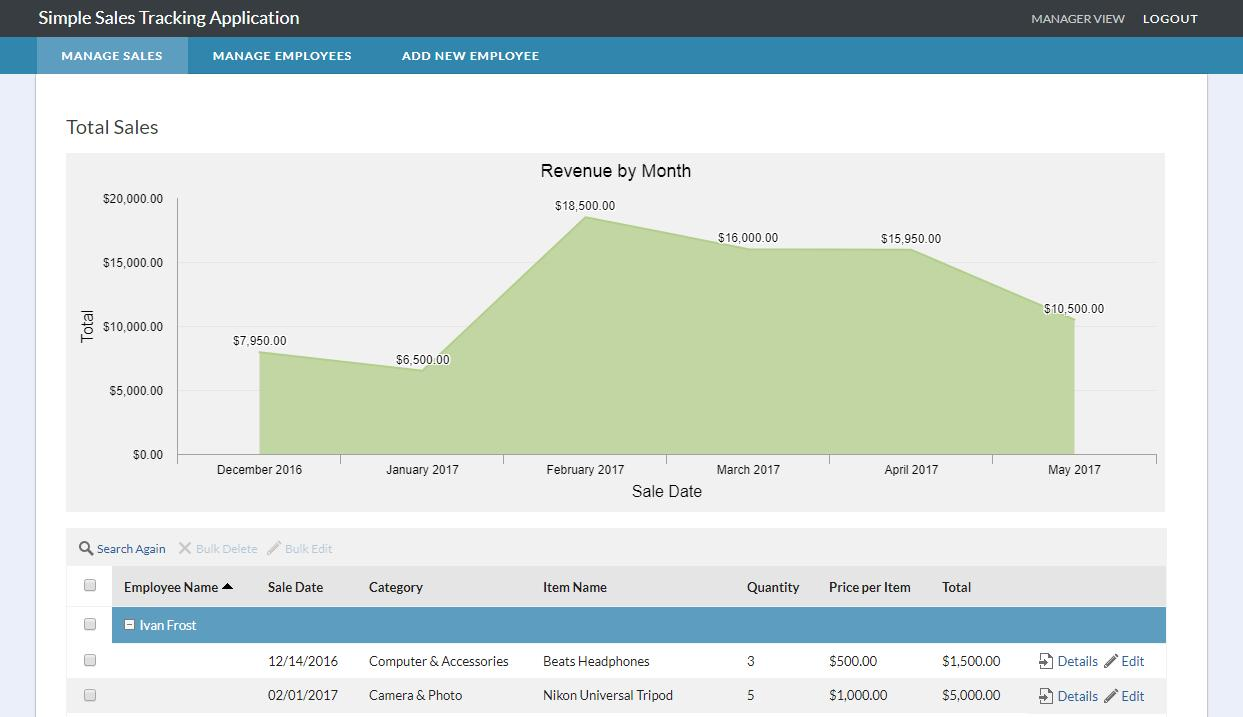button: (33, 37, 189, 73)
checkbox: (73, 572, 109, 706)
